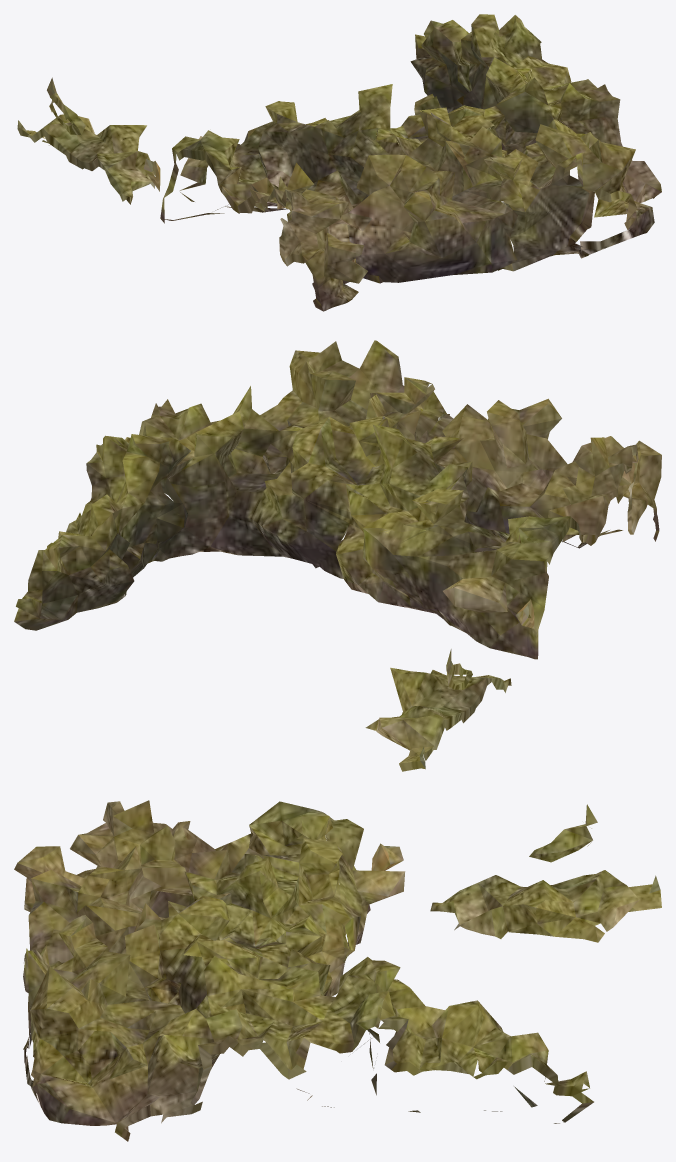
3 renders of one model, top to bottom at view 1: azimuth 30°, elevation 25°; view 2: azimuth 150°, elevation 25°; view 3: azimuth 270°, elevation 25°, orthographic. The views are drawn at different scales.
Parts seen in each view (by area): view 1: Mesh_0; view 2: Mesh_0; view 3: Mesh_0.
Part boxes in pixels (x1,y1,x2,y2): Mesh_0: [17, 14, 661, 311]; Mesh_0: [14, 340, 661, 771]; Mesh_0: [14, 800, 661, 1141].
Bounding box in the file's own units: 33.04 × 9.79 × 36.62.
1 material, 1 textured.
